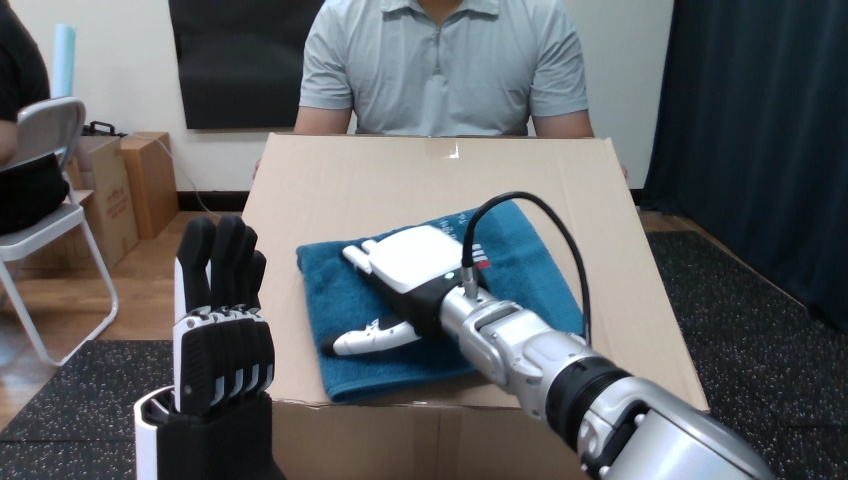left robot hand: (322, 192, 772, 479), (134, 215, 283, 479), (471, 198, 585, 338)
